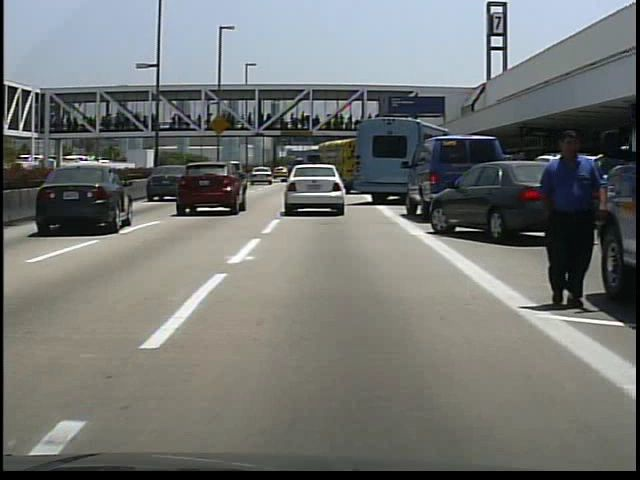person: (529, 128, 600, 310)
